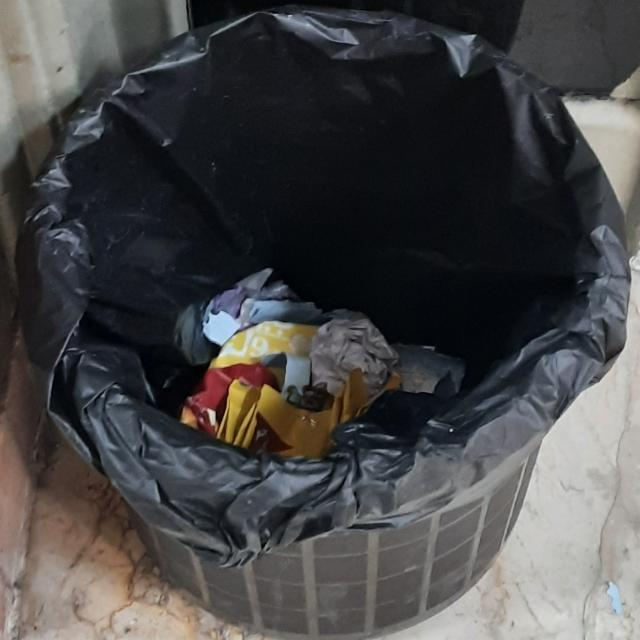trash: (0, 6, 633, 638)
